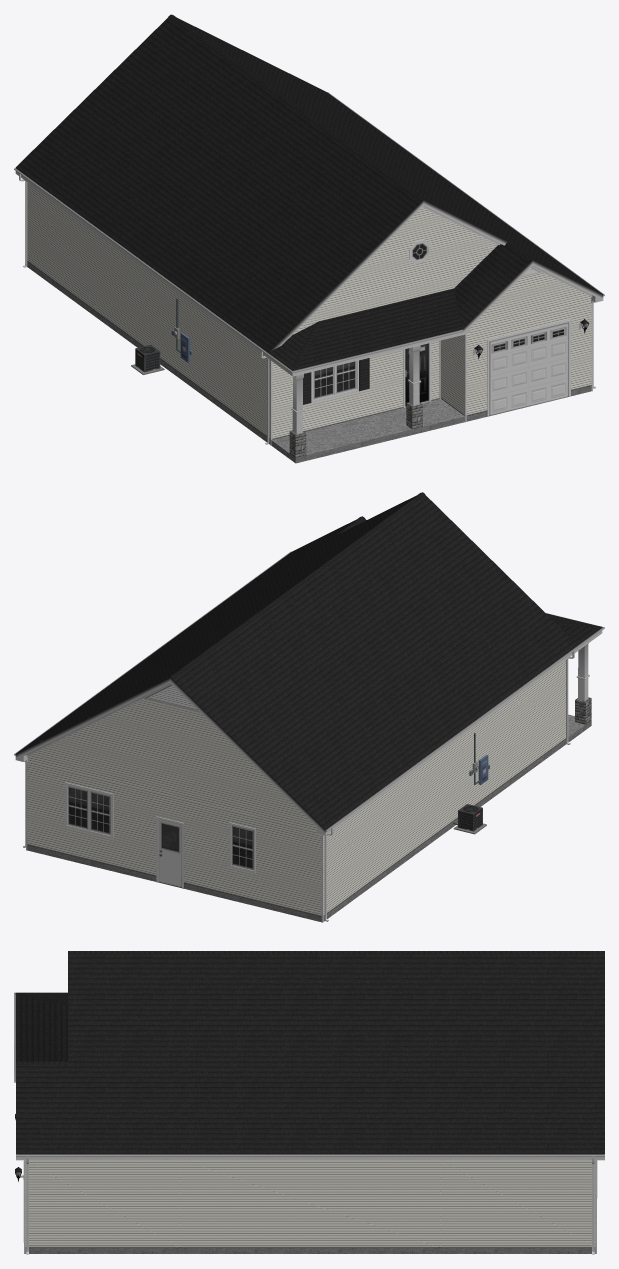
File: house4_mirror2.fbx
3 renders of one model, top to bottom at view 1: azimuth 30°, elevation 25°; view 2: azimuth 150°, elevation 25°; view 3: azimuth 270°, elevation 25°, orthographic. The views are drawn at different scales.
Parts seen in each view (by area): view 1: house4_mirror2_LOD0; view 2: house4_mirror2_LOD0; view 3: house4_mirror2_LOD0.
Part boxes in pixels (left/top/right/bottom): house4_mirror2_LOD0: left=14, top=14, right=604, bottom=463; house4_mirror2_LOD0: left=14, top=492, right=604, bottom=922; house4_mirror2_LOD0: left=14, top=951, right=604, bottom=1254.
Size of what is drawn, in the model's own units: 3.11 by 1.92 by 4.55.
